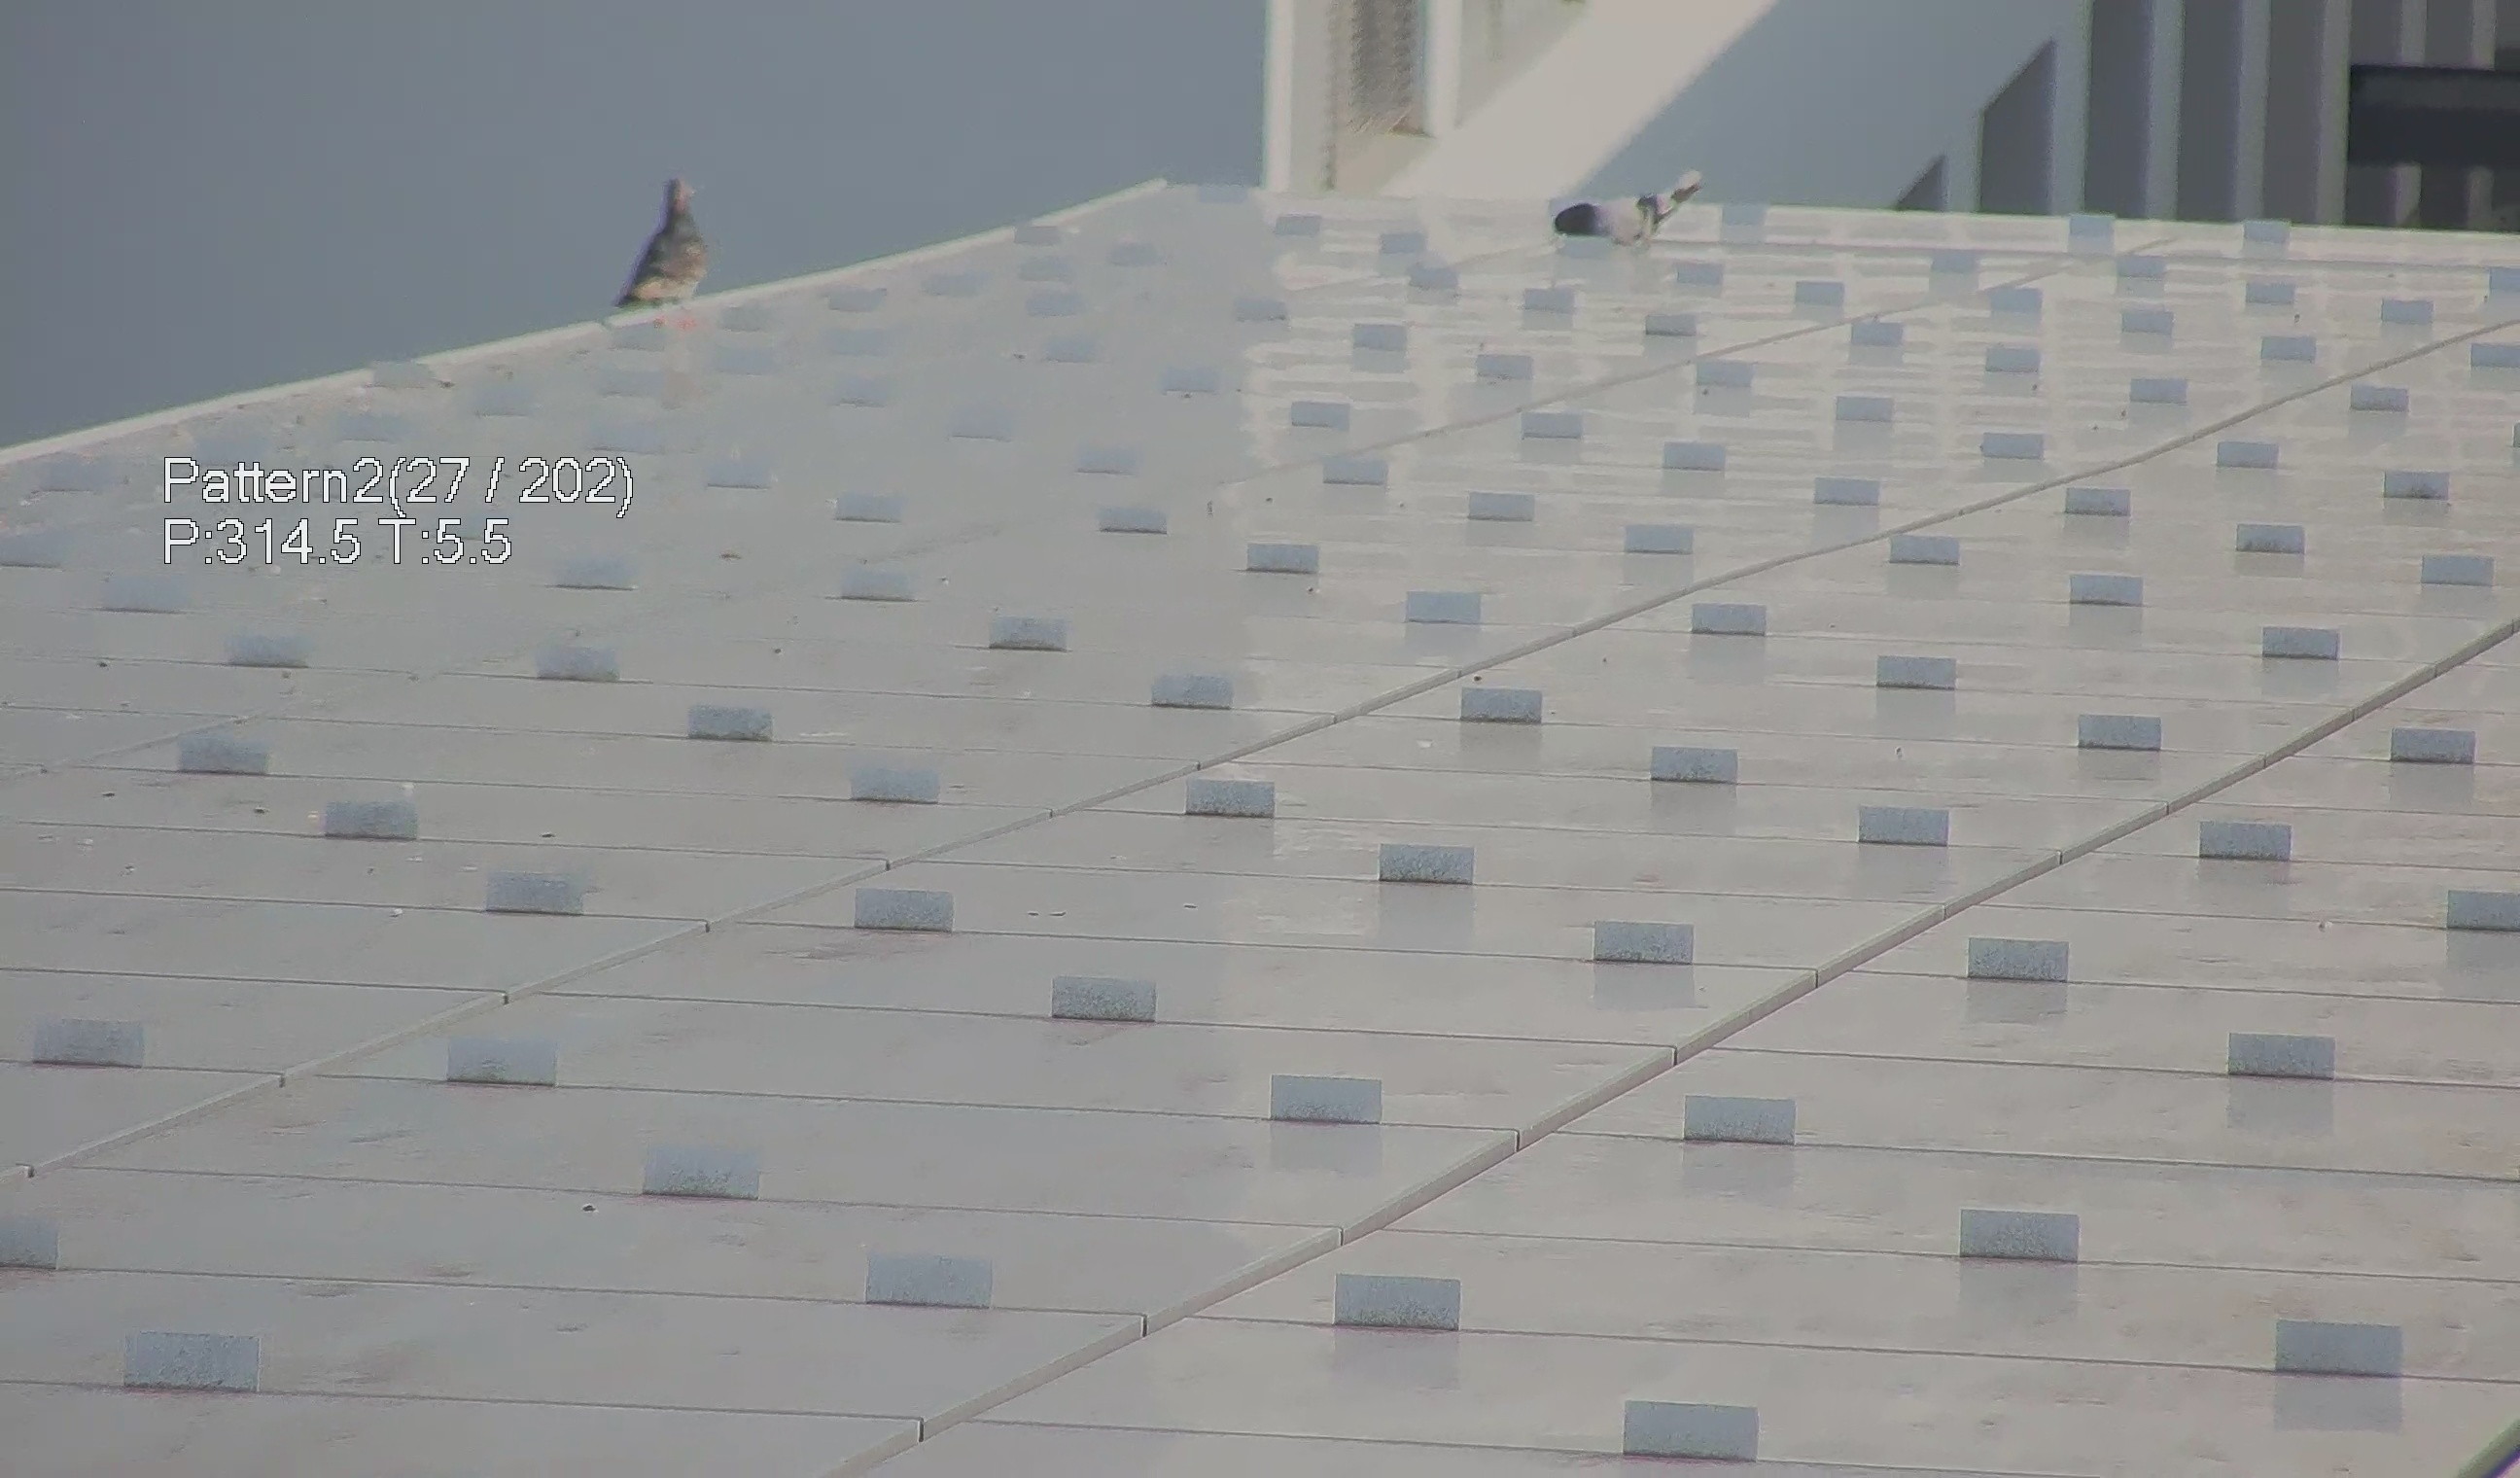Pigeon: (584, 162, 703, 320), (1553, 165, 1713, 239)
